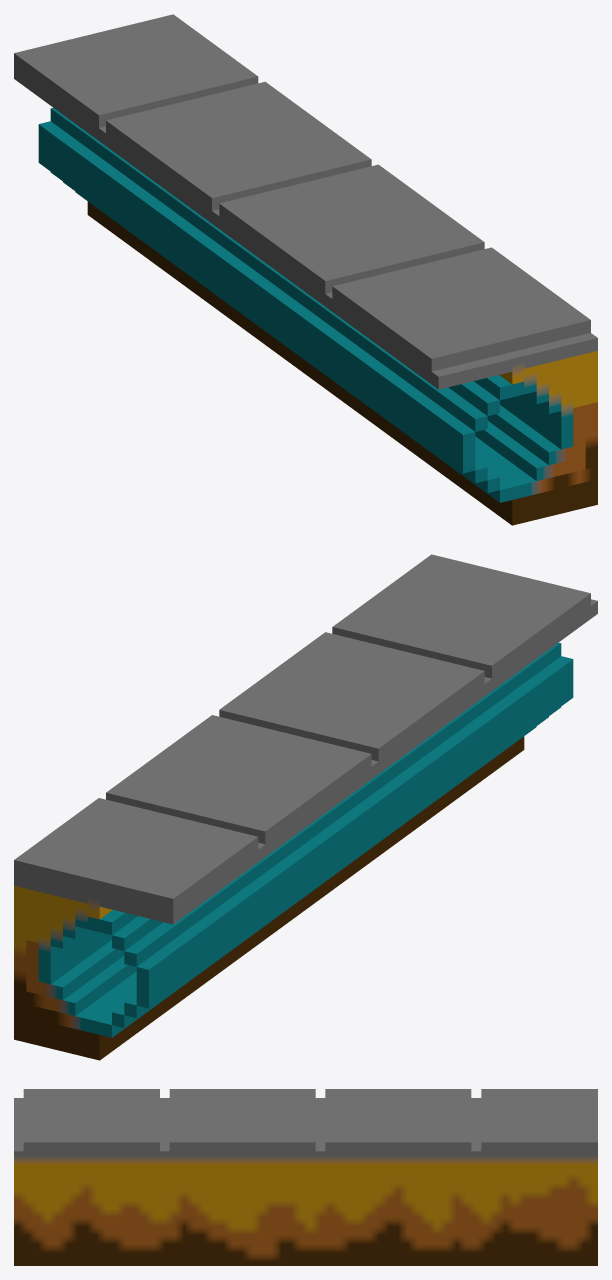
The model's file is Sidewalk.dae.
3 views of the same model, one above another, from view 1: azimuth 30°, elevation 25°; view 2: azimuth 150°, elevation 25°; view 3: azimuth 270°, elevation 25° (orthographic). The views are drawn at different scales.
Parts seen in each view (by area): view 1: Ground; view 2: Ground; view 3: Ground.
Part boxes in pixels (bbox=[...]): Ground: bbox=[14, 14, 597, 525]; Ground: bbox=[14, 554, 597, 1060]; Ground: bbox=[14, 1089, 597, 1265].
Bounding box in the file's own units: 13 × 14 × 60.
Materials: 1 (1 with a texture image).
